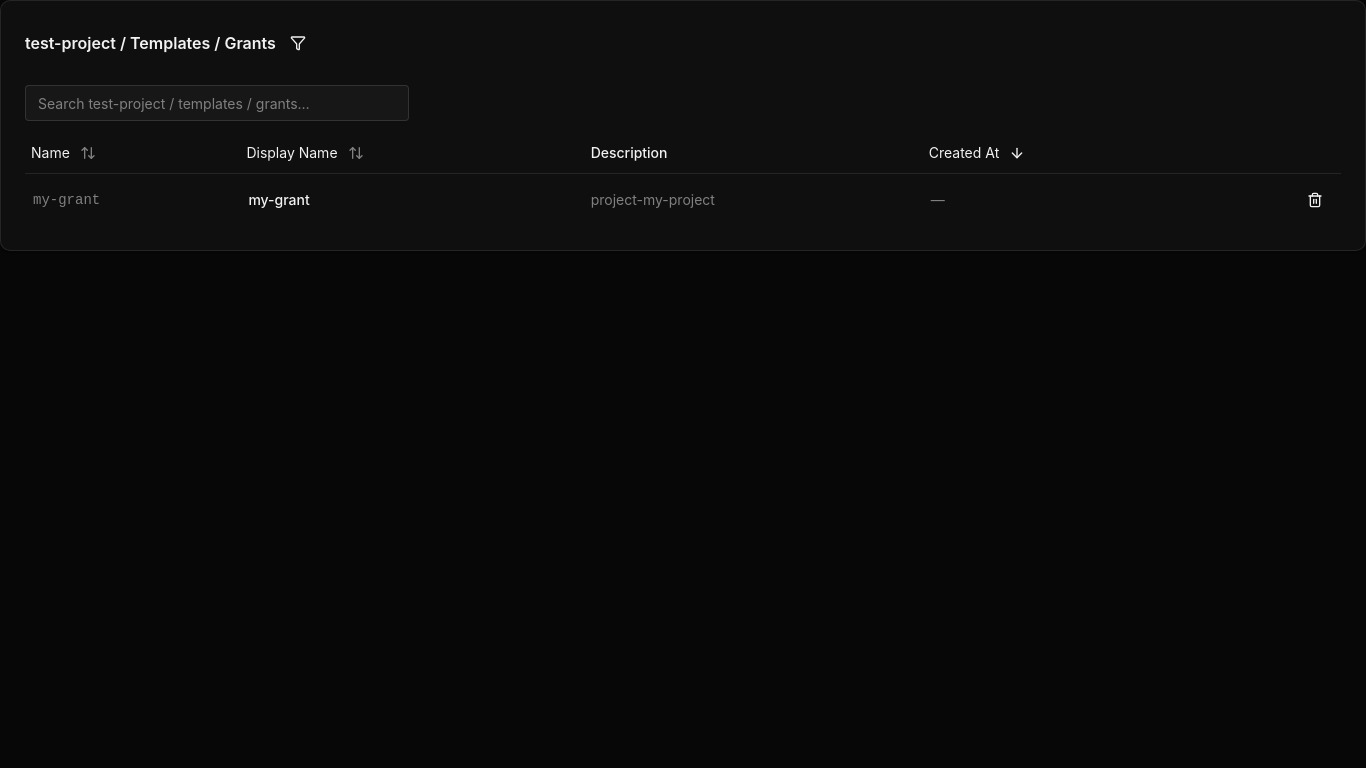
Test: TemplateGrantsIndexPage (HOL-1013) › delete button opens ConfirmDeleteDialog
Click the button named "delete my-grant": coordinates (1315, 200) 1297,182 -> 1333,218
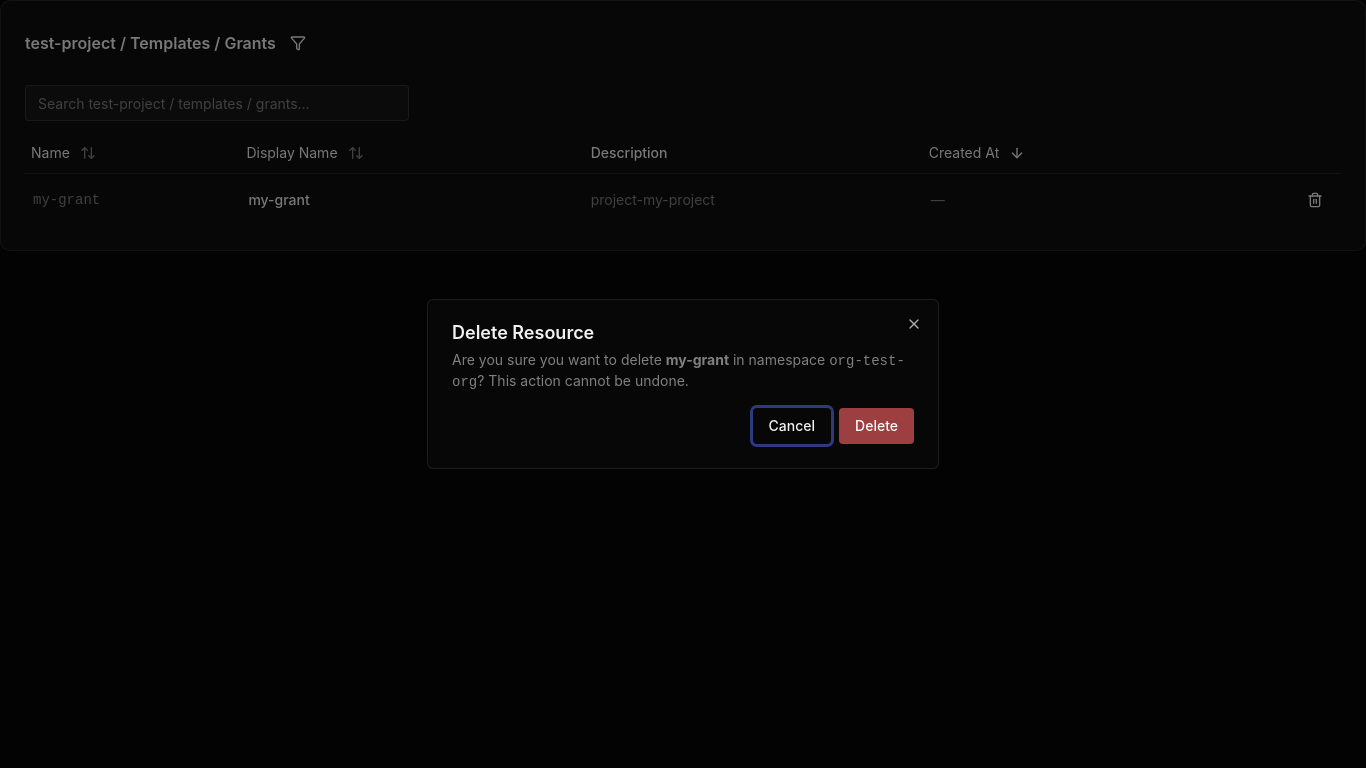
Check: the dialog is shown, box 427,299 -> 939,469
